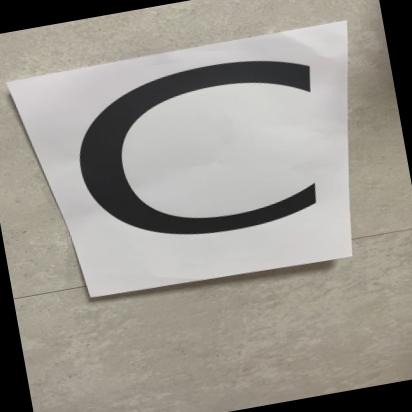seat: (34, 32, 352, 304)
